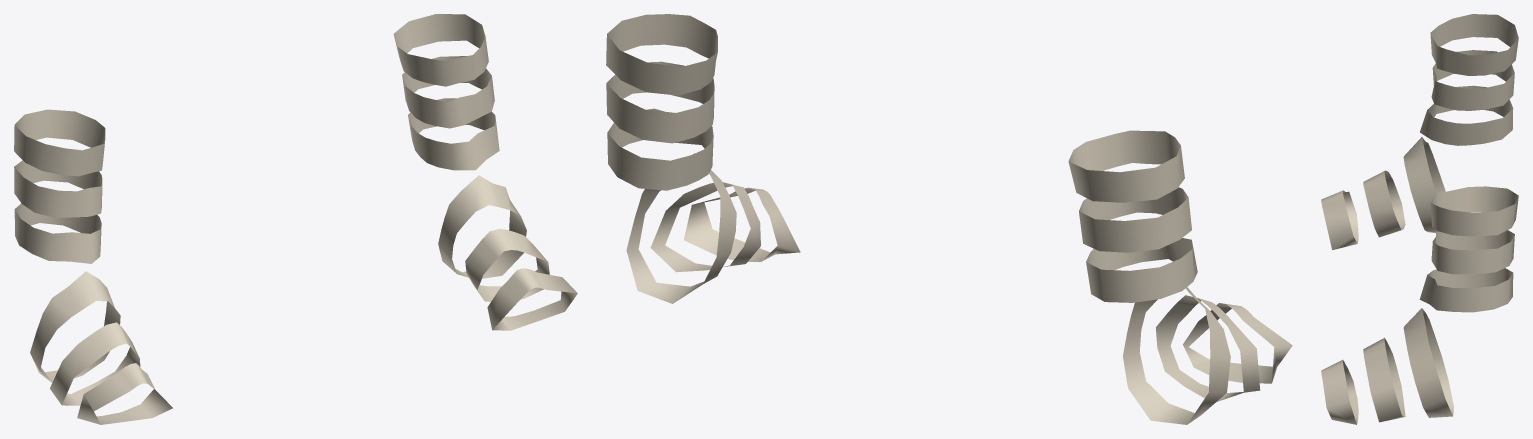
Rendered from foot_wraps.glb.
The picture shows the model from 3 angles, left to right: view 1: azimuth 30°, elevation 25°; view 2: azimuth 150°, elevation 25°; view 3: azimuth 270°, elevation 25°; orthographic projection. The views are drawn at different scales.
Parts seen in each view (by area): view 1: foot_wraps; view 2: foot_wraps; view 3: foot_wraps.
Part boxes in pixels (bbox=[...]): foot_wraps: bbox=[14, 14, 577, 424]; foot_wraps: bbox=[606, 14, 1292, 424]; foot_wraps: bbox=[1321, 14, 1518, 424].
Bounding box in the file's own units: 0.5073 × 0.2354 × 0.1989.
